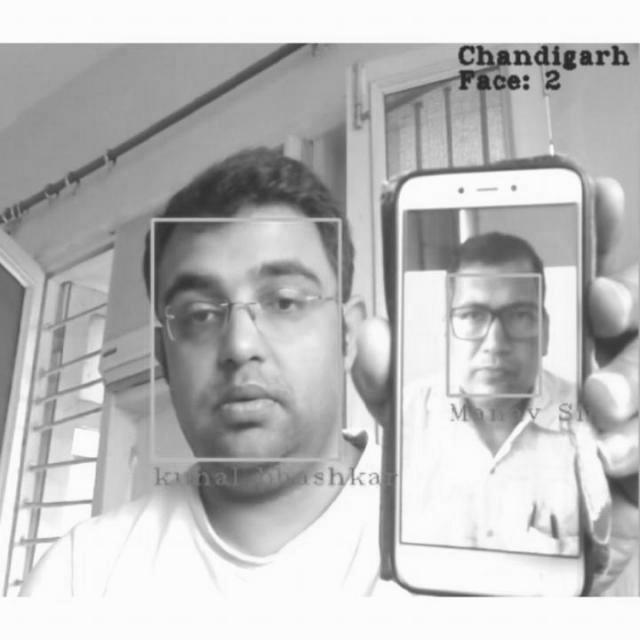fake: (394, 174, 594, 596)
real: (164, 241, 332, 451)
